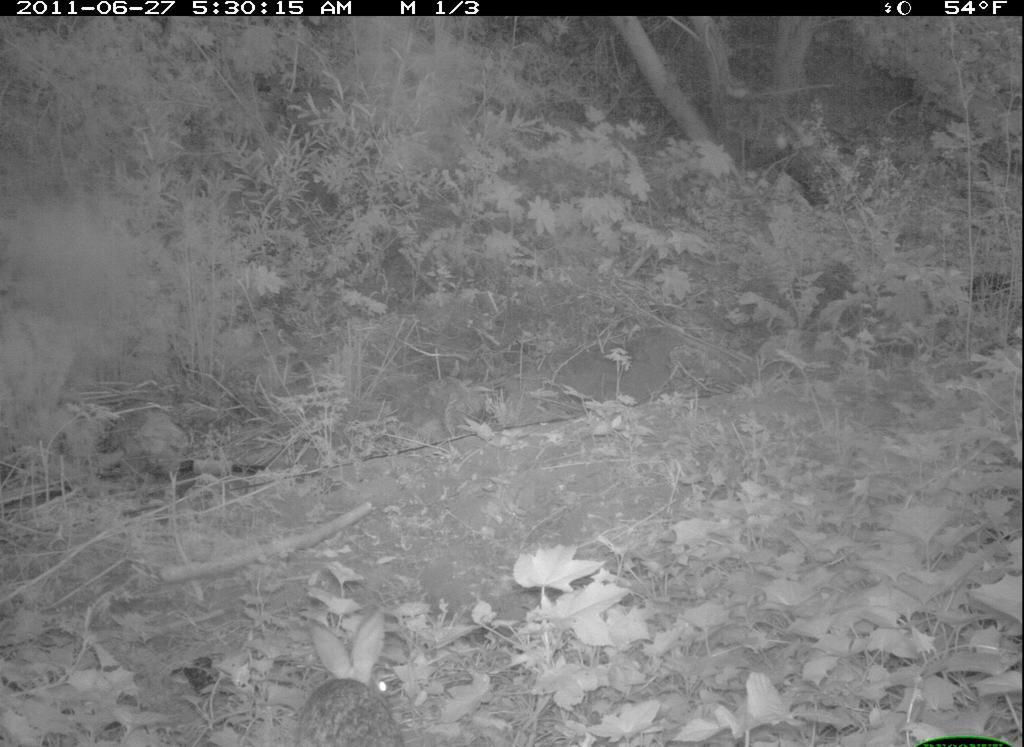rabbit: (265, 601, 425, 747)
